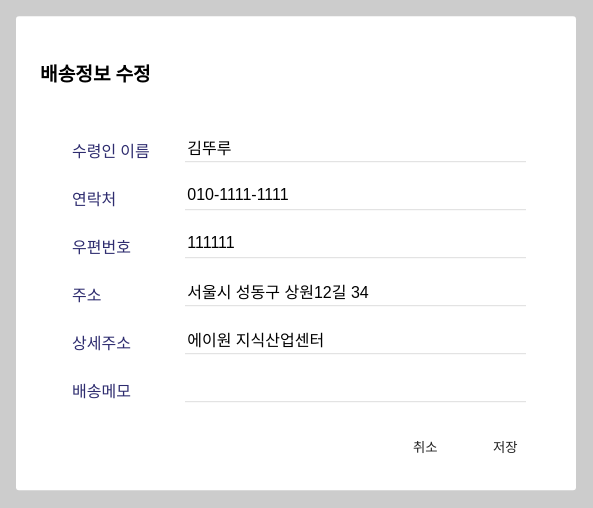
Test: EditOrderModal › 배송정보 수정 › 수령인 이름 › 입력한 이름의 길이가 두 글자 미만인 경우 › 2글자 이상 입력해 주세요 에러메시지가 보인다
(page scrolled)
Replace the text in the field labelled "수령인 이름" with "두" at (356, 150), box [185,138,526,162]
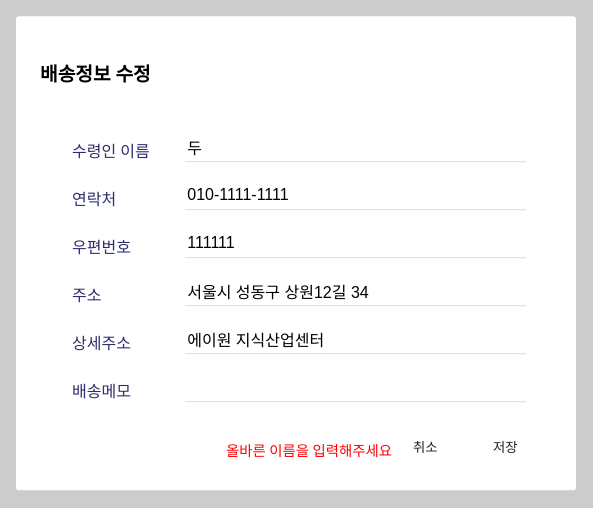
Expected: the text "올바른 이름을 입력해주세요" is shown, [226,443,392,459]
